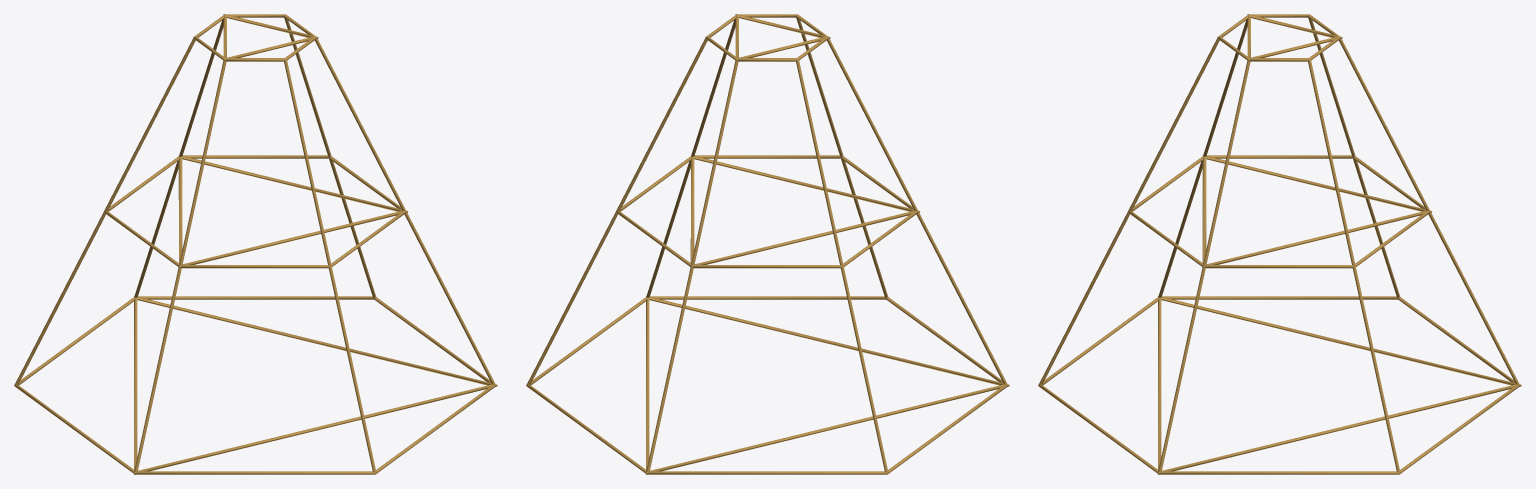
3 renders of one model, left to right at view 1: azimuth 30°, elevation 25°; view 2: azimuth 150°, elevation 25°; view 3: azimuth 270°, elevation 25°, orthographic.
Visible parts, largest first — view 1: baserods, base_bracerods, middlerods, middle_bracerods, rail.004, rail.003, rail.002, rail.005, rail.001, rail.006, toprods, top_bracerods; view 2: baserods, base_bracerods, middlerods, middle_bracerods, rail.002, rail.001, rail.006, rail.003, rail.005, rail.004, toprods, top_bracerods; view 3: baserods, base_bracerods, middlerods, middle_bracerods, rail.006, rail.005, rail.004, rail.001, rail.003, rail.002, toprods, top_bracerods.
Boxes of the visible parts, x1,y1,x2,y2 form: baserods: (14, 296, 495, 474); base_bracerods: (134, 296, 497, 474); middlerods: (104, 155, 405, 268); middle_bracerods: (178, 156, 407, 268); rail.004: (284, 59, 376, 472); rail.003: (134, 60, 226, 472); rail.002: (14, 37, 195, 384); rail.005: (315, 38, 495, 384); rail.001: (134, 19, 223, 297); rail.006: (284, 17, 376, 297); toprods: (193, 14, 316, 61); top_bracerods: (223, 14, 318, 61); baserods: (526, 296, 1007, 474); base_bracerods: (646, 296, 1009, 474); middlerods: (616, 155, 917, 268); middle_bracerods: (690, 156, 919, 268); rail.002: (796, 59, 888, 472); rail.001: (646, 60, 738, 472); rail.006: (526, 37, 707, 384); rail.003: (827, 38, 1007, 384); rail.005: (646, 19, 735, 297); rail.004: (796, 17, 888, 297); toprods: (705, 14, 828, 61); top_bracerods: (735, 14, 830, 61); baserods: (1038, 296, 1519, 474); base_bracerods: (1158, 296, 1521, 474); middlerods: (1128, 155, 1429, 268); middle_bracerods: (1202, 156, 1431, 268); rail.006: (1308, 59, 1400, 472); rail.005: (1158, 60, 1250, 472); rail.004: (1038, 37, 1219, 384); rail.001: (1339, 38, 1519, 384); rail.003: (1158, 19, 1247, 297); rail.002: (1308, 17, 1400, 297); toprods: (1217, 14, 1340, 61); top_bracerods: (1247, 14, 1342, 61).
Size of the model in its own units: 0.3469 by 0.3196 by 0.3994.
